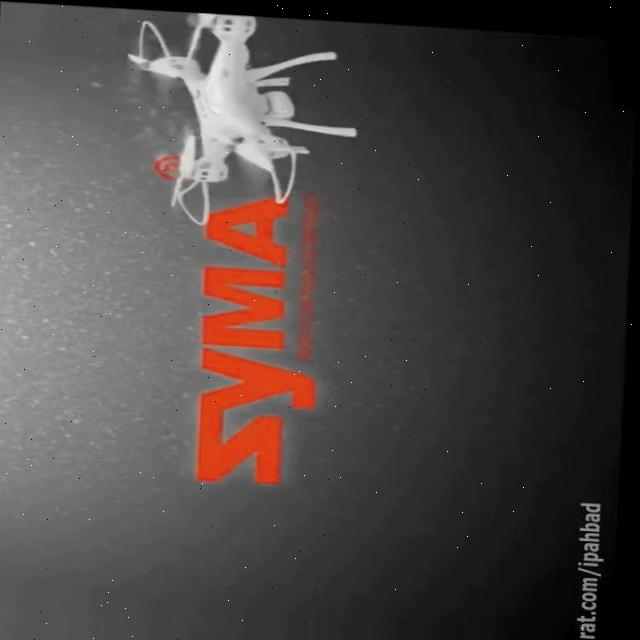drone: (123, 6, 362, 229)
